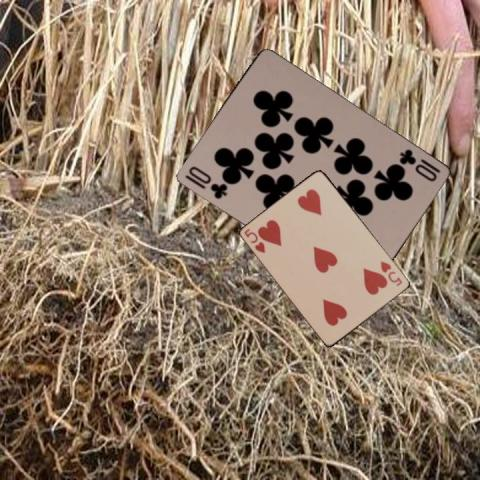10c: (181, 163, 229, 201), (395, 146, 442, 183)
5h: (377, 258, 404, 288), (241, 225, 268, 255)
